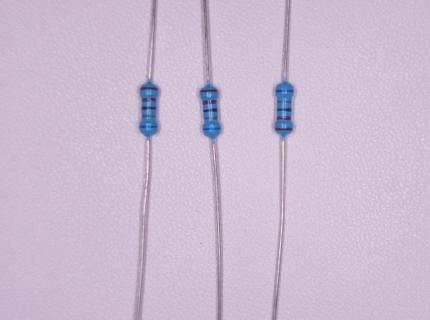Black band: (203, 108, 217, 113), (277, 108, 291, 112), (142, 106, 155, 110)
Blue band: (140, 125, 158, 128), (203, 127, 221, 130), (276, 90, 293, 93)
Brown band: (141, 87, 158, 91), (275, 127, 292, 131), (200, 89, 218, 92)
Grey band: (204, 116, 218, 120), (142, 115, 156, 118), (277, 100, 291, 103)
Red band: (203, 100, 216, 105), (142, 98, 156, 102), (277, 116, 291, 120)
